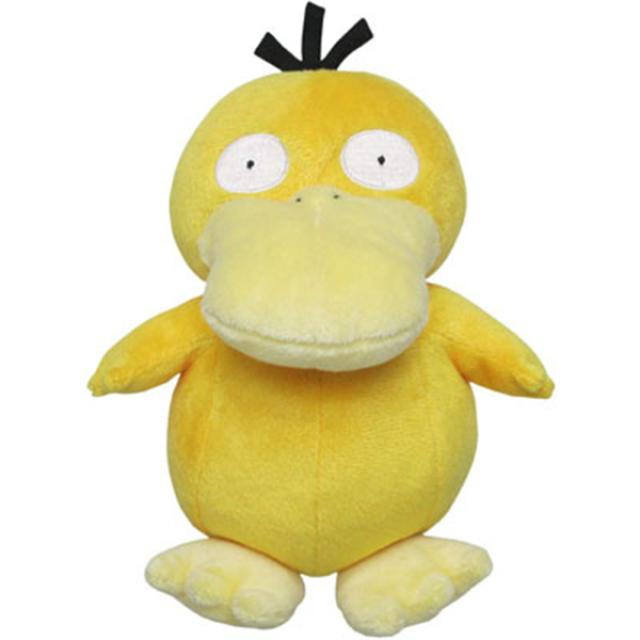Psyduck: (168, 64, 470, 634)
